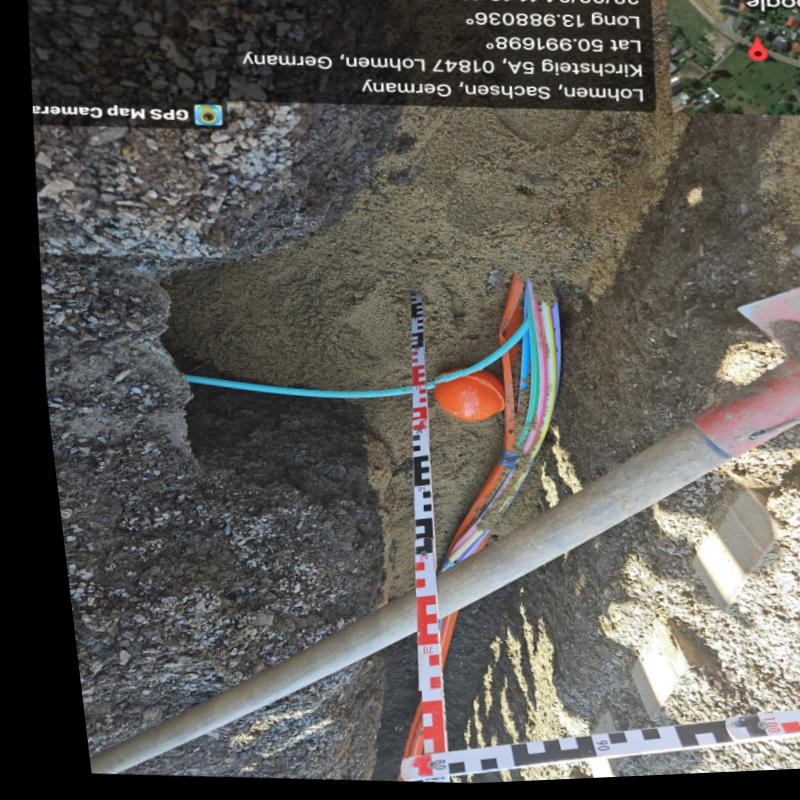Kugelmarker: (423, 371, 493, 425)
Orang-Speednetrohrchen: (376, 694, 405, 784)
